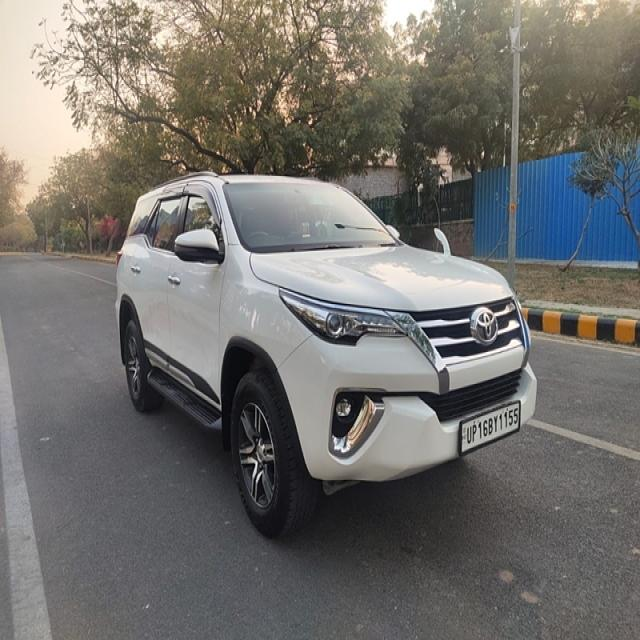light_vehicle: (114, 171, 539, 540)
